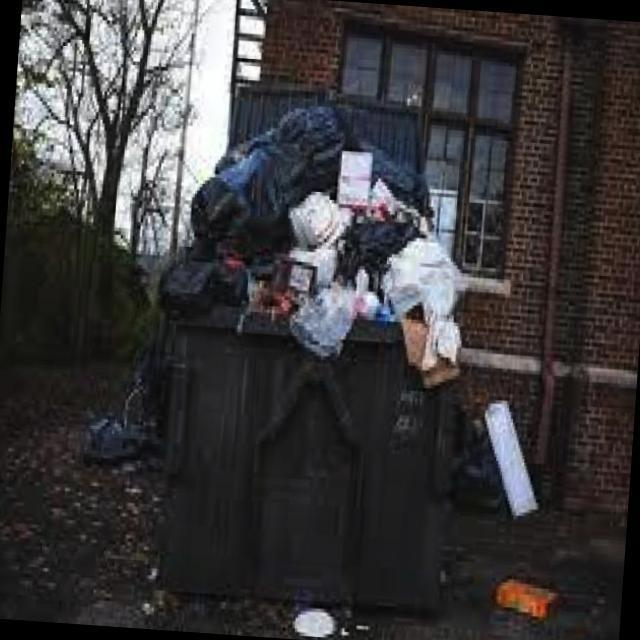garbage: (154, 92, 485, 348), (448, 384, 546, 519), (78, 409, 163, 468), (491, 567, 564, 625), (285, 595, 343, 640)
